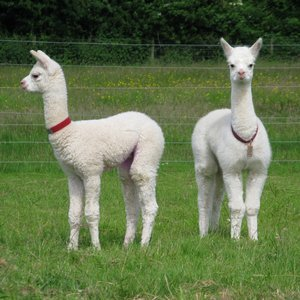alpaca: (19, 49, 165, 252), (190, 36, 272, 243)
